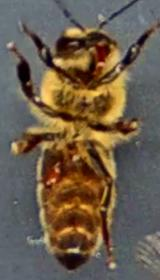varroa_mite: (46, 159, 70, 181)
